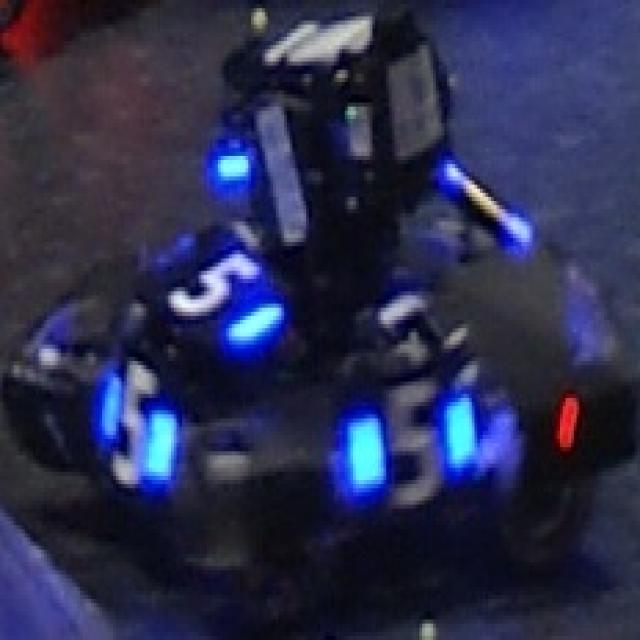B5: (348, 369, 477, 513), (94, 357, 176, 492)
